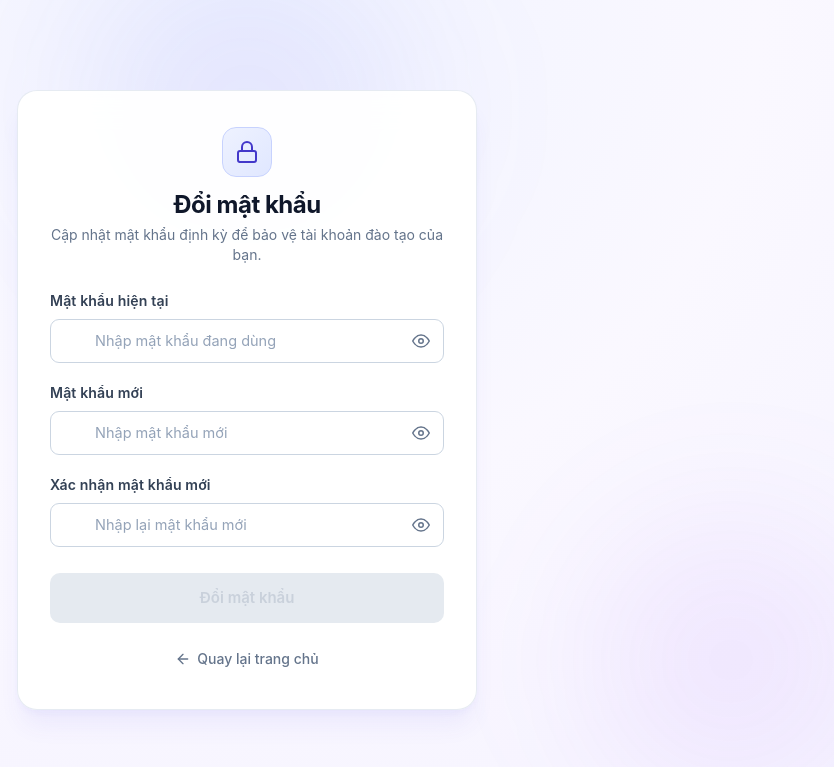
Test: ChangePasswordPage (SCRUM-52) › 13. SCRUM-57: đổi mật khẩu thành công -> hiển thị "Đổi mật khẩu thành công." và xóa trắng 3 ô nhập
Type "CurrentPass123!" into the password field labelled "Mật khẩu hiện tại" at (247, 341), box [50, 319, 444, 363]
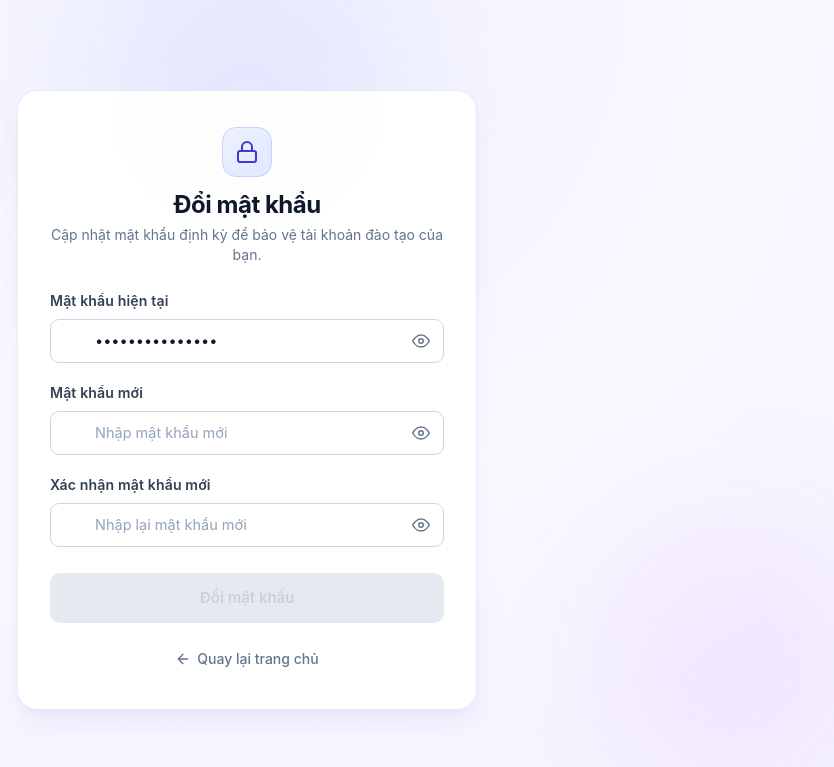
Type "NewSecurePass456!" into the password field labelled "Mật khẩu mới" at (247, 433), box [50, 411, 444, 455]
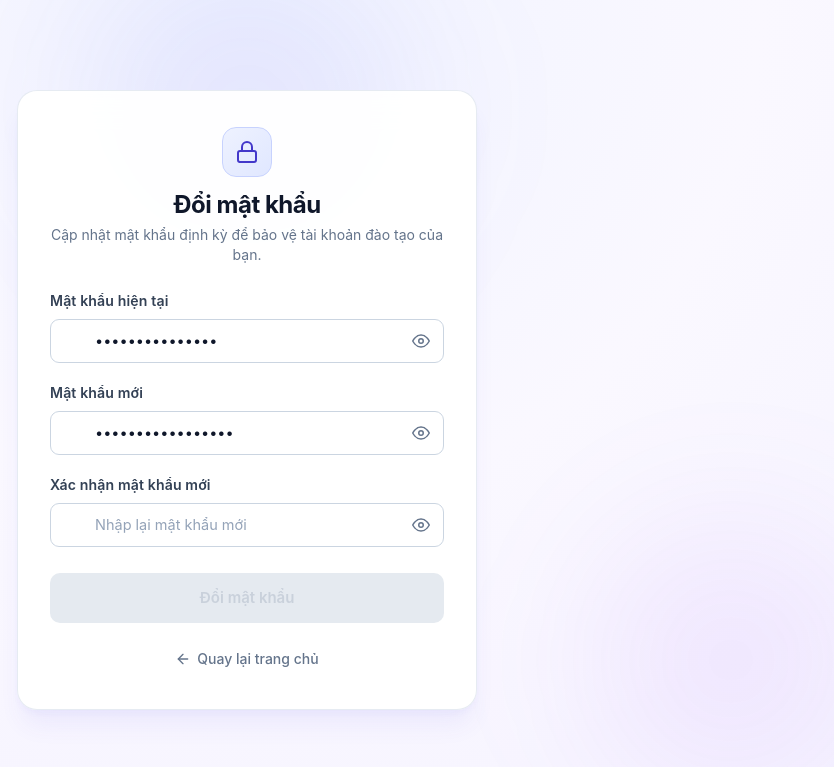
Type "NewSecurePass456!" into the password field labelled "Xác nhận mật khẩu mới" at (247, 525), box [50, 503, 444, 547]
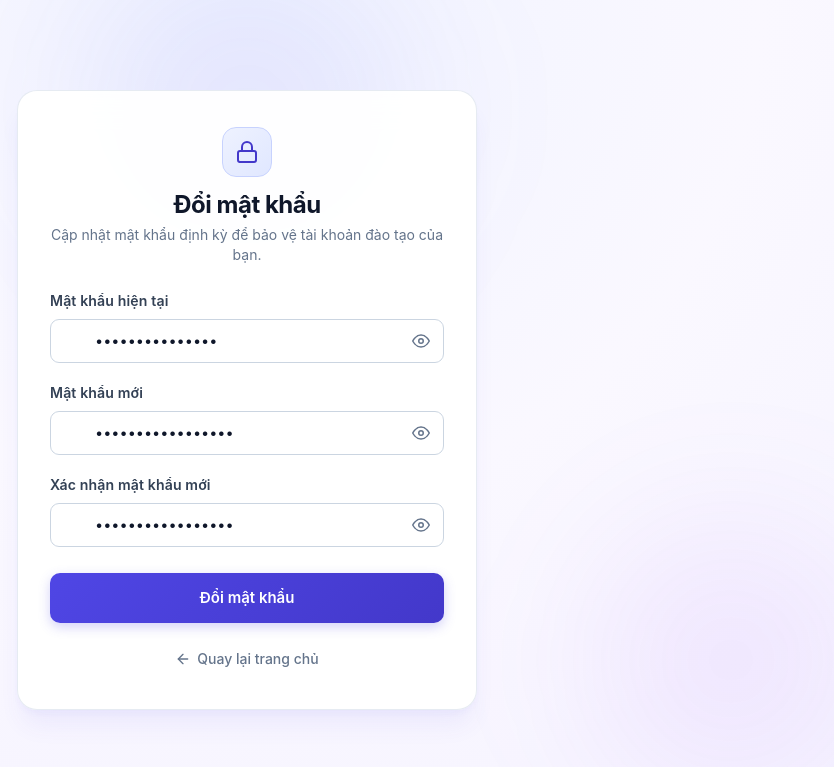
Click the button "Đổi mật khẩu" at (247, 598), box [50, 573, 444, 623]
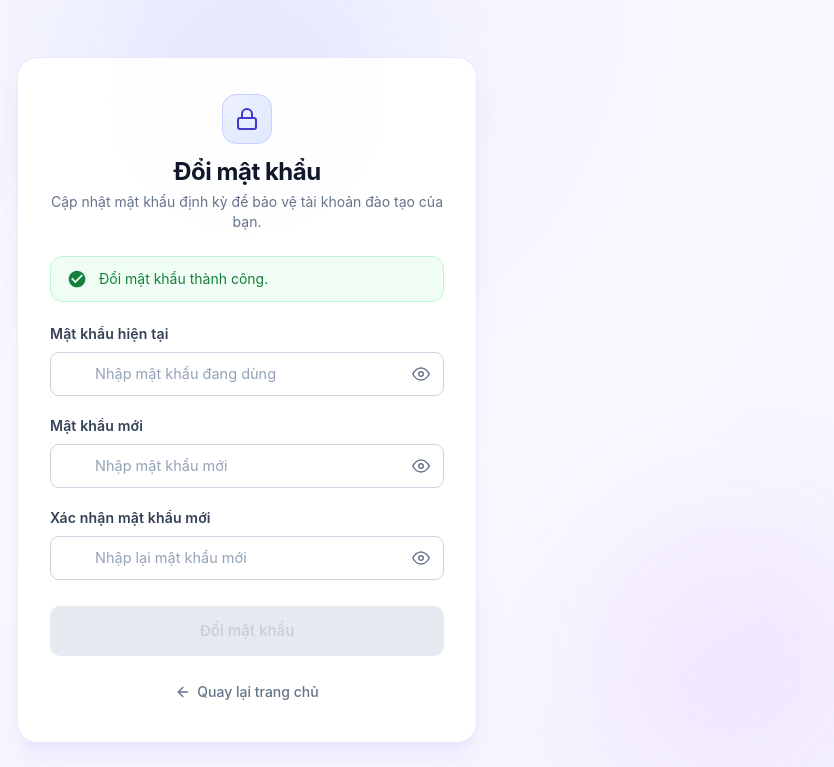
Result: the message "Đổi mật khẩu thành công." is shown at [50, 256, 444, 302]
Result: the text "Đổi mật khẩu thành công." is shown at [99, 269, 268, 288]
Result: the password field labelled "Mật khẩu hiện tại" is empty at [50, 352, 444, 396]
